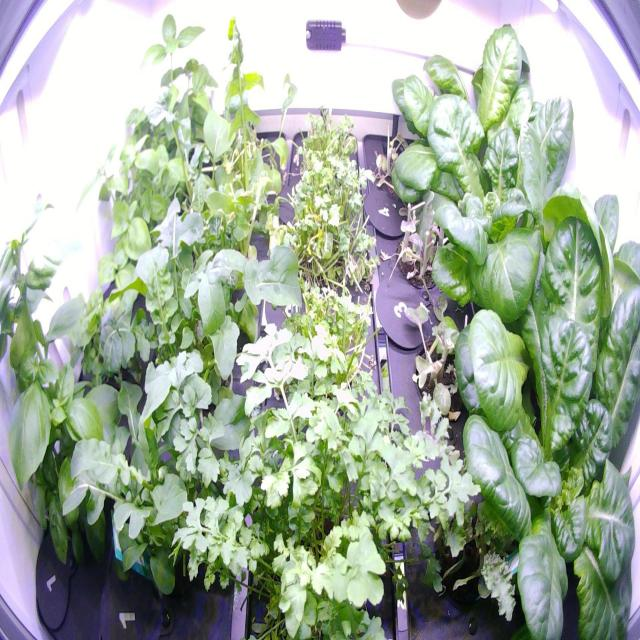Ready: (449, 218, 636, 634), (444, 163, 640, 428), (412, 77, 590, 304), (373, 15, 556, 207)
